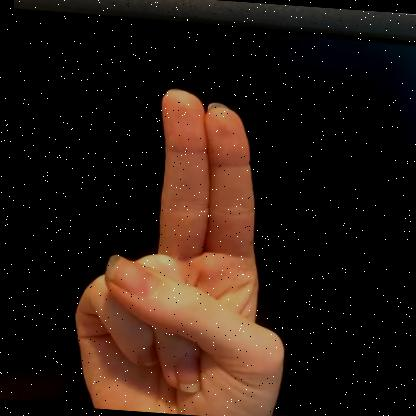U: (75, 89, 284, 416)
